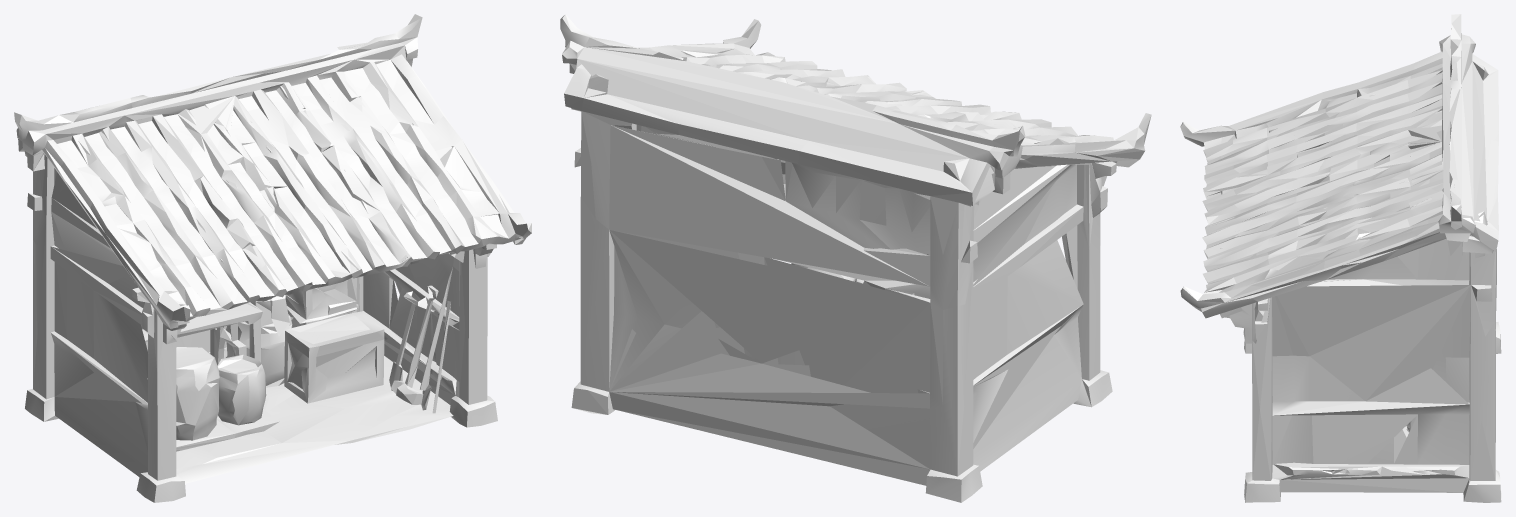
The model's file is yard_shed.glb.
3 renders of one model, left to right at view 1: azimuth 30°, elevation 25°; view 2: azimuth 150°, elevation 25°; view 3: azimuth 270°, elevation 25°, orthographic. The views are drawn at different scales.
Visible parts, largest first — view 1: Mesh_0; view 2: Mesh_0; view 3: Mesh_0.
Part boxes in pixels (x1,y1,x2,y2): Mesh_0: (14,14,531,502); Mesh_0: (560,14,1151,502); Mesh_0: (1180,14,1501,502).
Bounding box in the file's own units: 3.2 × 2.4 × 2.24.
1 material, 1 textured.
